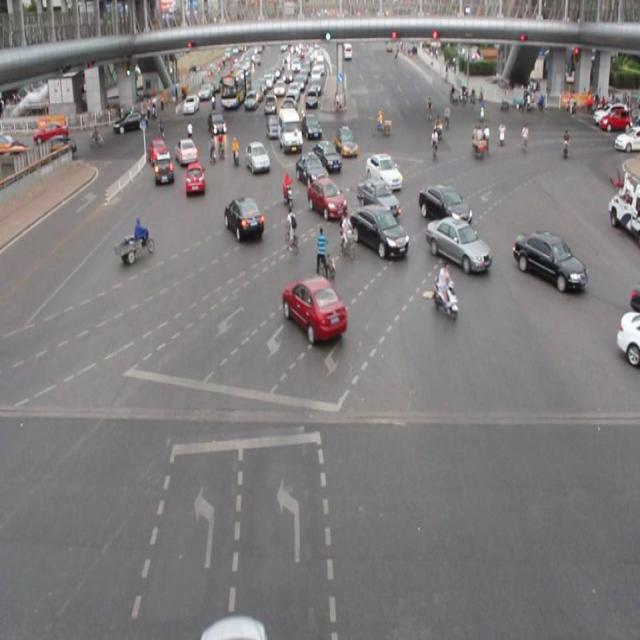car: (280, 271, 348, 351), (512, 230, 586, 300), (427, 213, 491, 280), (352, 203, 411, 265), (422, 183, 476, 225), (220, 196, 266, 244), (364, 145, 401, 190), (309, 176, 342, 217), (280, 111, 304, 154), (35, 116, 72, 140), (150, 152, 174, 187), (244, 142, 268, 176), (297, 156, 325, 184), (336, 124, 358, 158), (178, 132, 199, 164), (597, 107, 626, 130), (186, 166, 204, 198), (183, 90, 201, 122), (207, 107, 230, 132), (304, 116, 322, 138), (306, 84, 320, 108), (263, 94, 279, 114)
